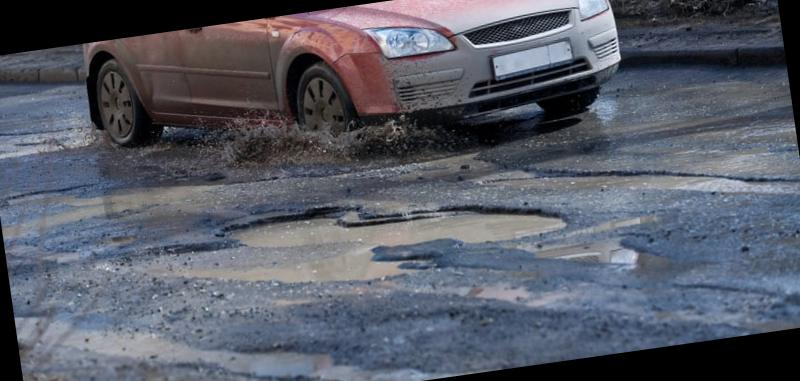pothole: (180, 154, 574, 325), (453, 105, 800, 248), (11, 158, 206, 237), (541, 202, 679, 289), (0, 104, 159, 174)
